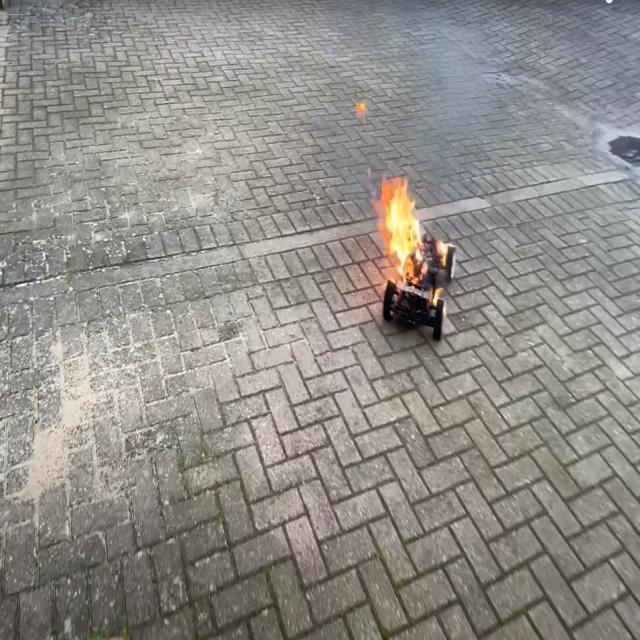Fire: (370, 170, 450, 321)
